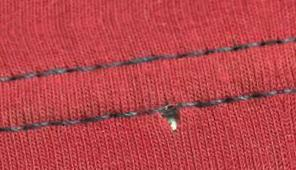hole: (163, 114, 183, 132)
